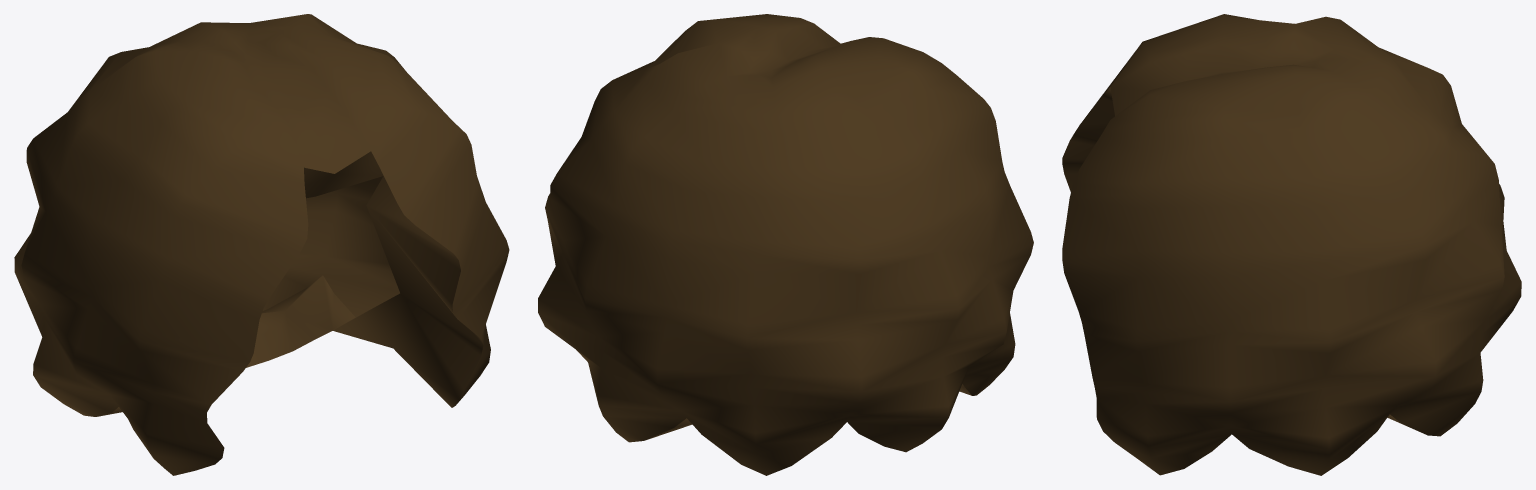
Rendered from hair_038.gltf.
The picture shows the model from 3 angles, left to right: view 1: azimuth 30°, elevation 25°; view 2: azimuth 150°, elevation 25°; view 3: azimuth 270°, elevation 25°; orthographic projection.
Parts seen in each view (by area): view 1: hair.134; view 2: hair.134; view 3: hair.134.
Part boxes in pixels (left/top/right/bottom): hair.134: left=14, top=14, right=509, bottom=475; hair.134: left=538, top=14, right=1033, bottom=475; hair.134: left=1062, top=14, right=1521, bottom=475.
Size of the model in its own units: 0.1486 by 0.1233 by 0.1417.
